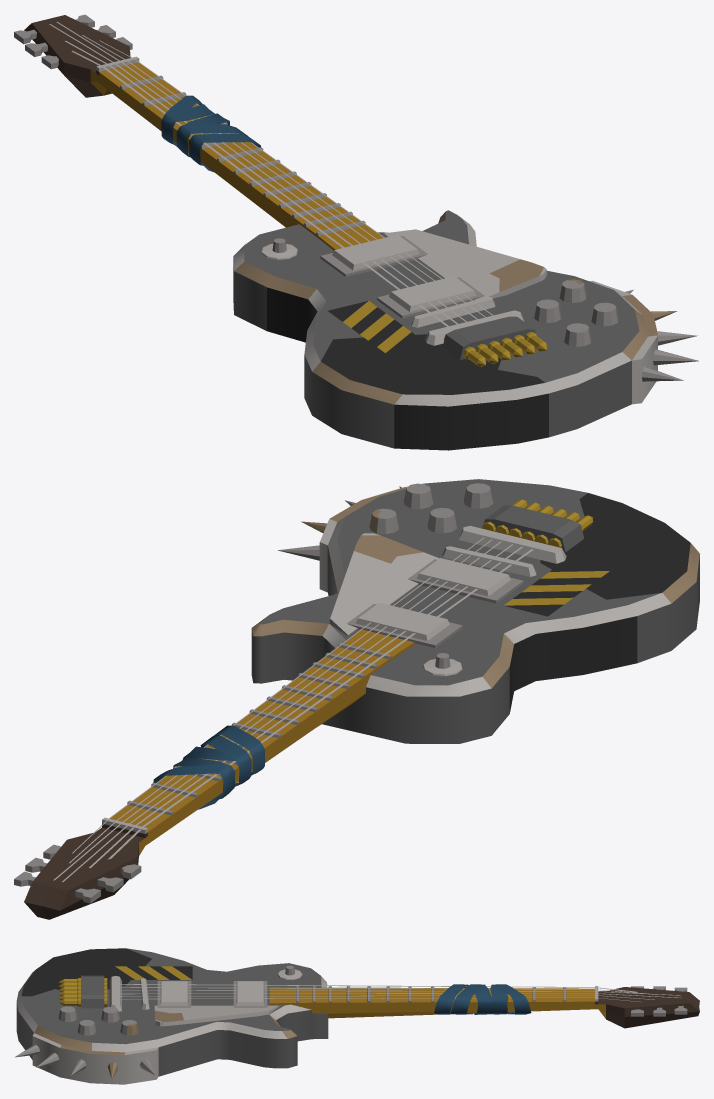
File: quaternius-zombie-apocalypse-kit-march-guitar.glb
3 renders of one model, top to bottom at view 1: azimuth 30°, elevation 25°; view 2: azimuth 150°, elevation 25°; view 3: azimuth 270°, elevation 25°, orthographic. The views are drawn at different scales.
Visible parts, largest first — view 1: Guitar; view 2: Guitar; view 3: Guitar.
Part boxes in pixels (x1=…): Guitar: x1=14, y1=14, x2=698, y2=450; Guitar: x1=14, y1=479, x2=699, y2=919; Guitar: x1=15, y1=948, x2=699, y2=1084.
Size of the model in its own units: 0.7209 by 0.129 by 1.8.
1 material, 1 textured.
